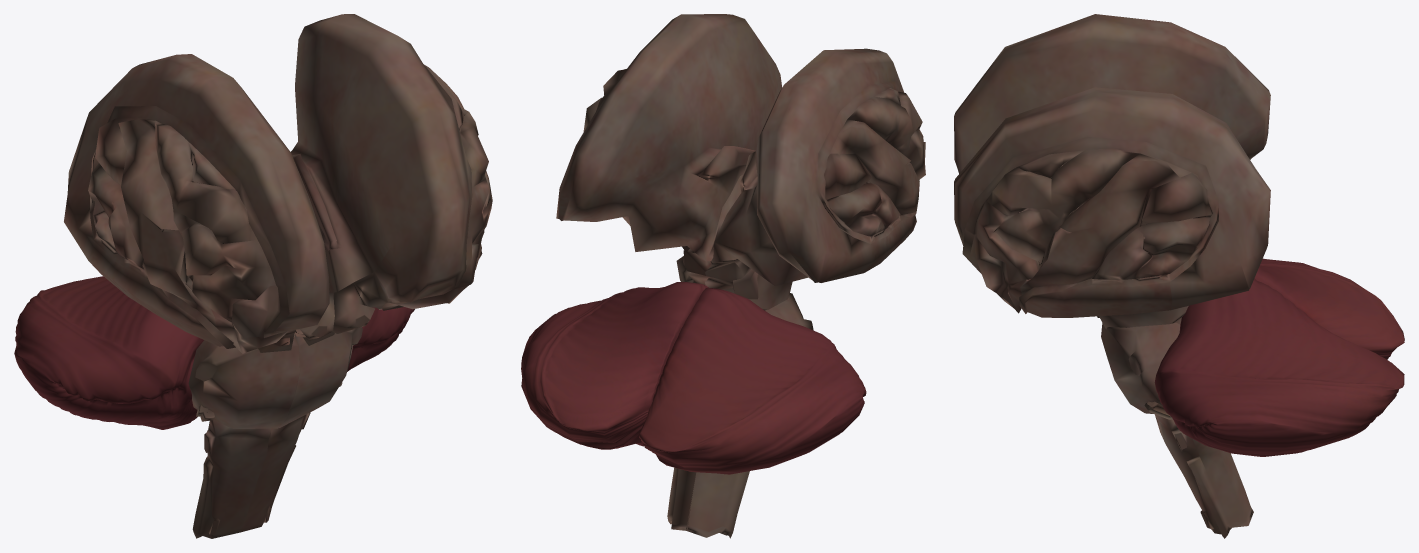
The model's file is Nervous_Full_Cerebellum.gltf.
The picture shows the model from 3 angles, left to right: view 1: azimuth 30°, elevation 25°; view 2: azimuth 150°, elevation 25°; view 3: azimuth 270°, elevation 25°; orthographic projection. The views are drawn at different scales.
Parts seen in each view (by area): view 1: Nervous_Brain_Stem, Nervous_Brain_Stem_1, Nervous_Full_Cerebellum_1, Nervous_Full_Cerebellum_2; view 2: Nervous_Brain_Stem, Nervous_Brain_Stem_1, Nervous_Full_Cerebellum_1, Nervous_Full_Cerebellum_2; view 3: Nervous_Brain_Stem_1, Nervous_Full_Cerebellum_2, Nervous_Brain_Stem, Nervous_Full_Cerebellum_1.
Part boxes in pixels (x1,y1,x2,y2): Nervous_Brain_Stem: (64,54,334,538); Nervous_Brain_Stem_1: (239,14,492,532); Nervous_Full_Cerebellum_1: (14,276,203,429); Nervous_Full_Cerebellum_2: (347,307,414,371); Nervous_Brain_Stem: (685,48,925,538); Nervous_Brain_Stem_1: (556,14,782,530); Nervous_Full_Cerebellum_1: (639,287,866,474); Nervous_Full_Cerebellum_2: (521,282,708,449); Nervous_Brain_Stem_1: (954,87,1270,538); Nervous_Full_Cerebellum_2: (1154,278,1404,456); Nervous_Brain_Stem: (954,14,1270,512); Nervous_Full_Cerebellum_1: (1254,258,1404,359).
Size of the model in its own units: 8.89 by 12.2 by 10.63.
1 material, 1 textured.
